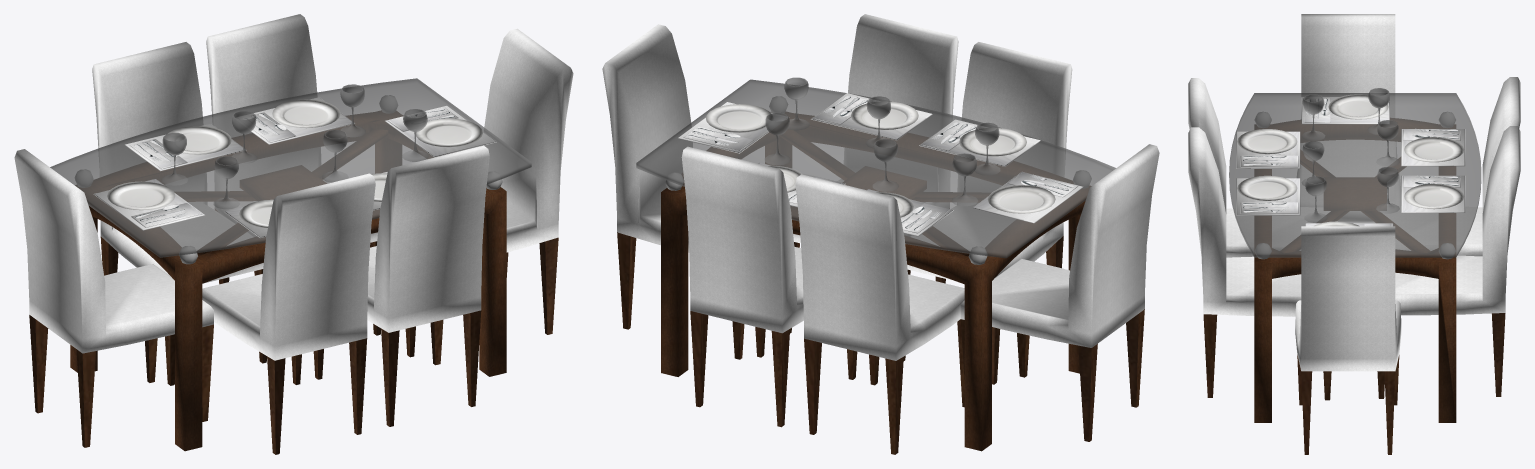
The model's file is Dining_table.FBX.
3 renders of one model, left to right at view 1: azimuth 30°, elevation 25°; view 2: azimuth 150°, elevation 25°; view 3: azimuth 270°, elevation 25°, orthographic. The views are drawn at different scales.
Visible parts, largest first — view 1: Chairs_top, Table_top, Table_legs, Plates_cutlery, Chairs_legs, Wine_glasses, Sphere001; view 2: Chairs_top, Table_top, Table_legs, Plates_cutlery, Chairs_legs, Wine_glasses, Sphere001; view 3: Chairs_top, Table_top, Table_legs, Plates_cutlery, Chairs_legs, Wine_glasses, Sphere001.
Part boxes in pixels (x1,y1,x2,y2): Chairs_top: (14,14,573,360); Table_top: (50,78,531,257); Table_legs: (70,110,506,451); Plates_cutlery: (93,97,496,237); Chairs_legs: (29,209,558,454); Wine_glasses: (161,84,428,209); Sphere001: (75,95,502,264); Chairs_top: (602,14,1159,360); Table_top: (636,79,1115,258); Table_legs: (661,112,1090,451); Plates_cutlery: (677,93,1083,236); Chairs_legs: (617,208,1144,454); Wine_glasses: (764,77,1000,206); Sphere001: (665,96,1091,264); Chairs_top: (1188,14,1520,371); Table_top: (1229,93,1481,257); Table_legs: (1254,118,1456,422); Plates_cutlery: (1236,94,1465,226); Chairs_legs: (1203,313,1505,454); Wine_glasses: (1301,88,1399,222); Sphere001: (1255,112,1455,259).
Size of the model in its own units: 265 by 132 by 171.
